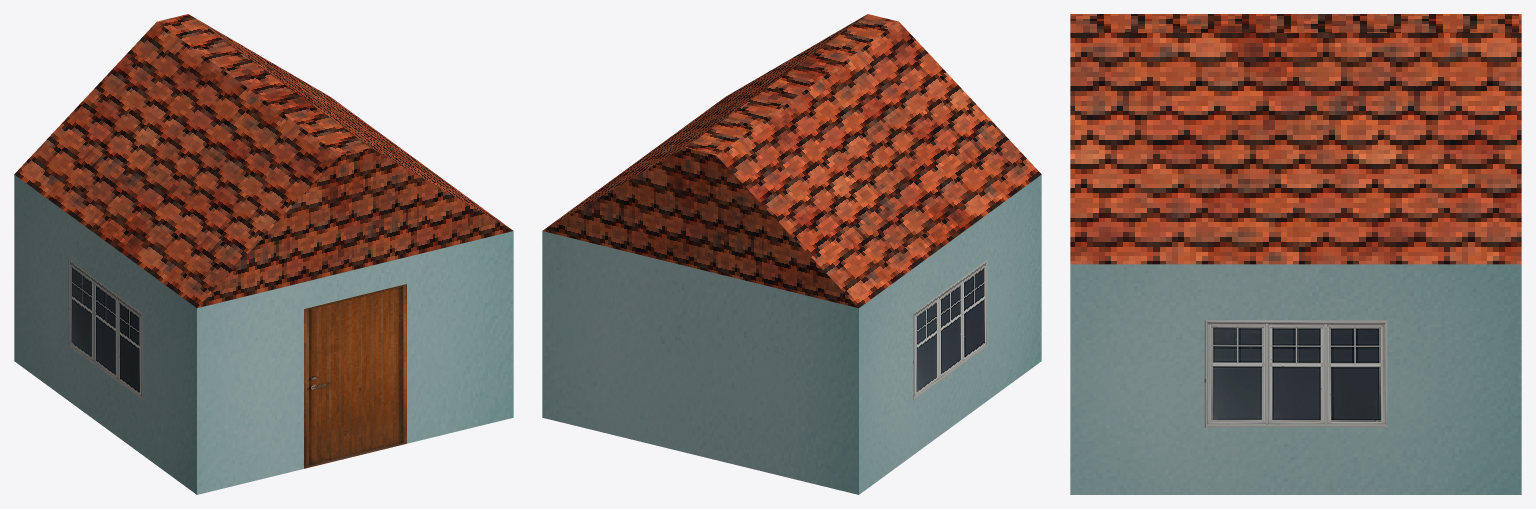
The model's file is square_house.glb.
3 views of the same model, side by side, from view 1: azimuth 30°, elevation 25°; view 2: azimuth 150°, elevation 25°; view 3: azimuth 270°, elevation 25° (orthographic). The views are drawn at different scales.
Parts seen in each view (by area): view 1: Cube; view 2: Cube; view 3: Cube.
Boxes of the visible parts, x1,y1,x2,y2 form: Cube: [14, 14, 513, 494]; Cube: [542, 14, 1041, 494]; Cube: [1070, 14, 1521, 494].
Bounding box in the file's own units: 2 × 1.84 × 2.
Materials: 1 (1 with a texture image).
